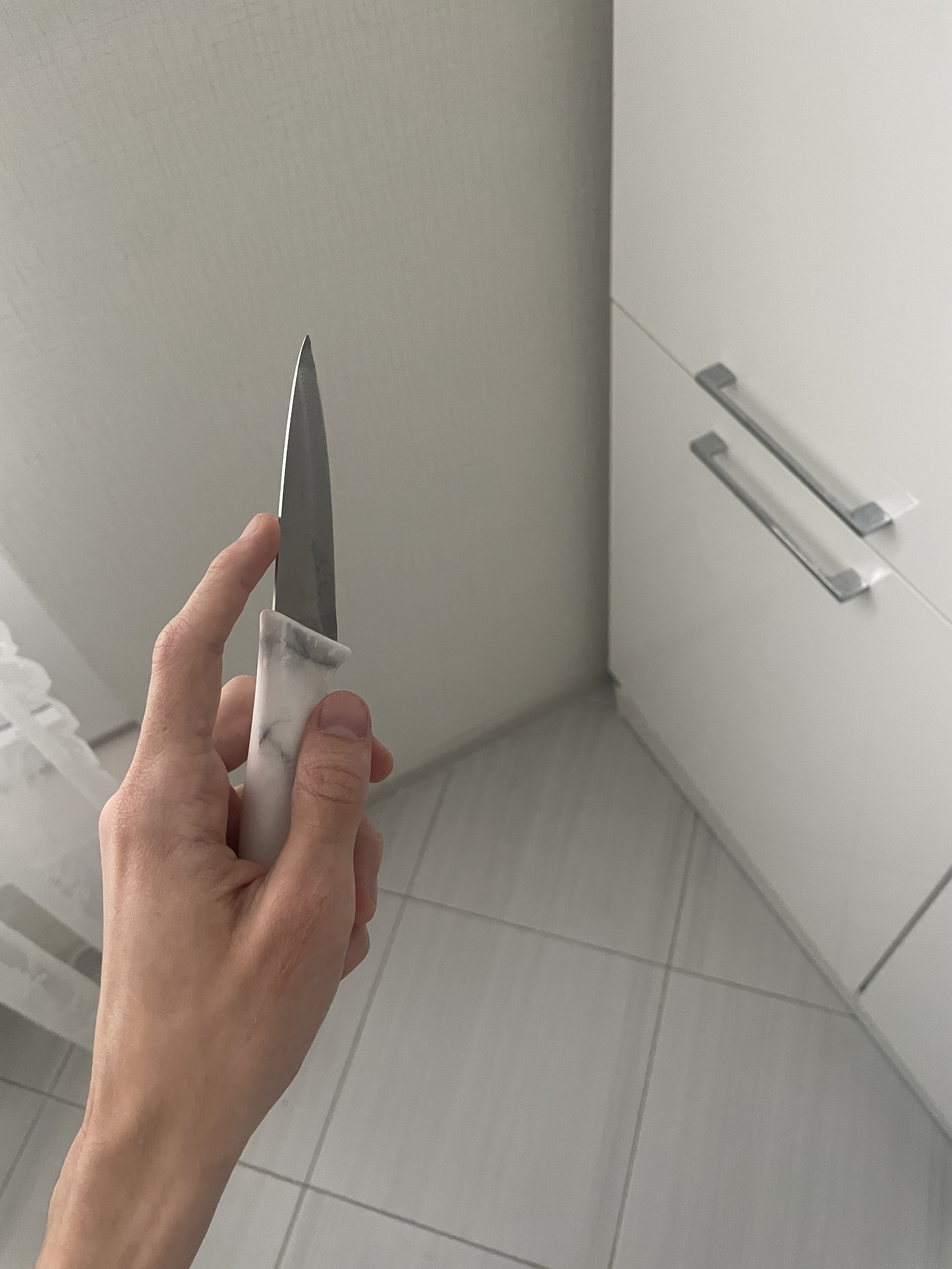knife: (242, 337, 352, 872)
